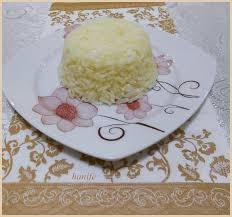pirinc_pilavi: (59, 18, 156, 104)
